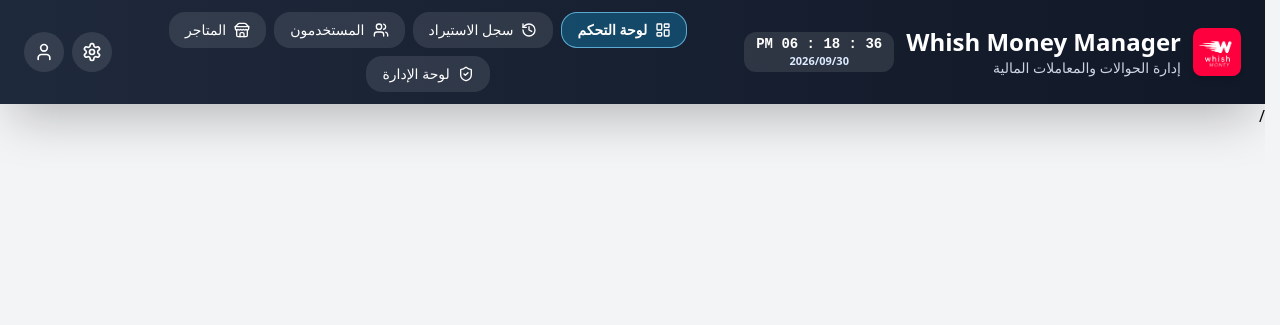
it: the account menu › My profile opens the profile page and closes the menu
Step 1. Click the button with test id "user-menu-button" → coordinates (44, 52), box left=24, top=32, right=64, bottom=72
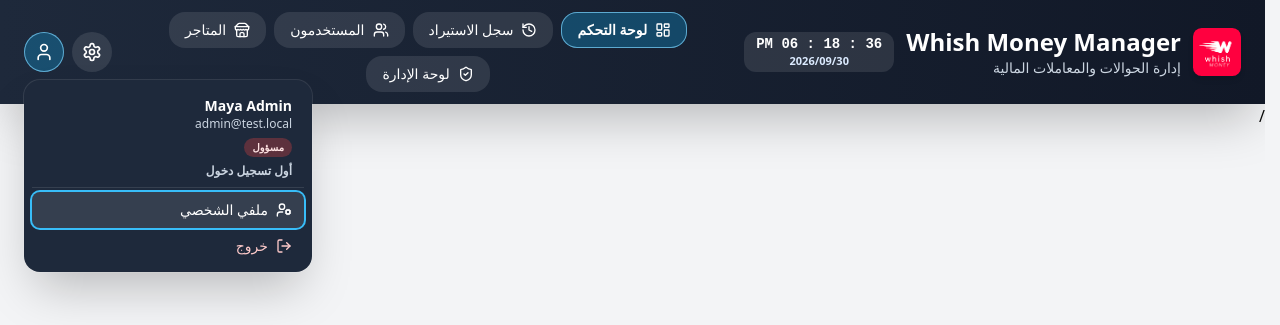
Step 2. Click the menu item with test id "profile-link" → coordinates (224, 210), box left=32, top=192, right=304, bottom=228
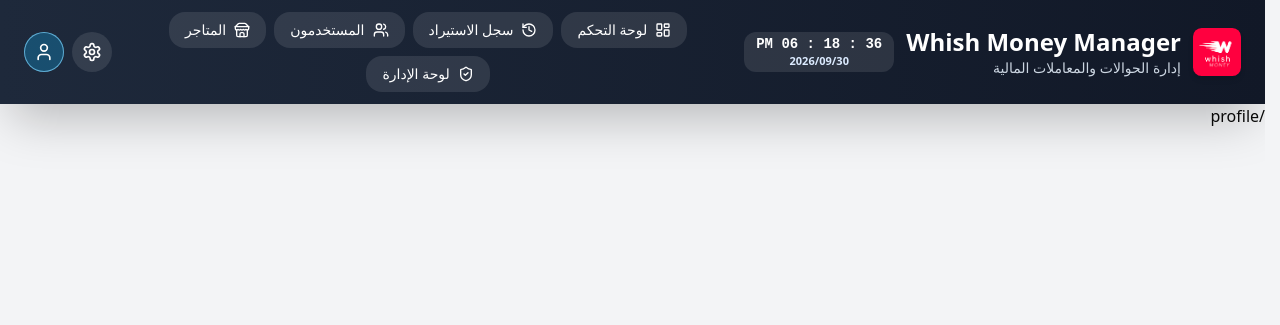
Check: the text with test id "where" reads "/profile", box left=1210, top=105, right=1265, bottom=127
Check: the menu is gone
